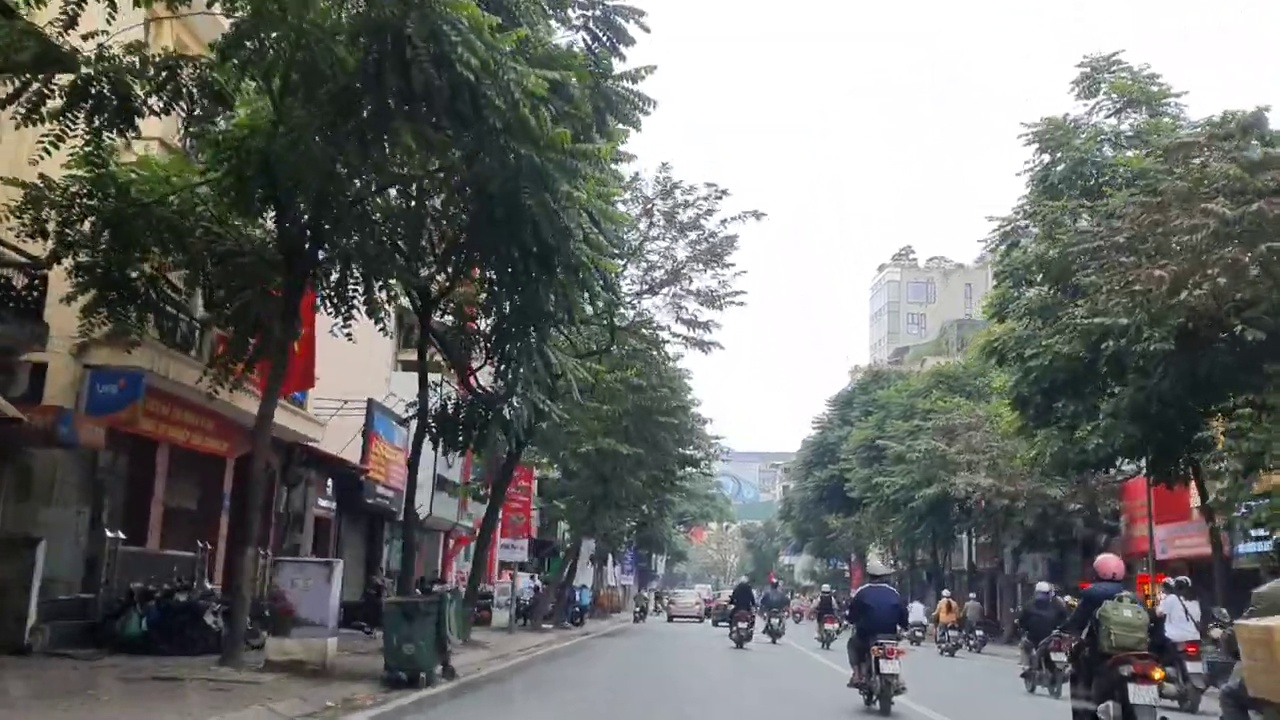vehicle-plate: (1124, 680, 1161, 705), (1185, 659, 1205, 672), (1049, 649, 1068, 662)
